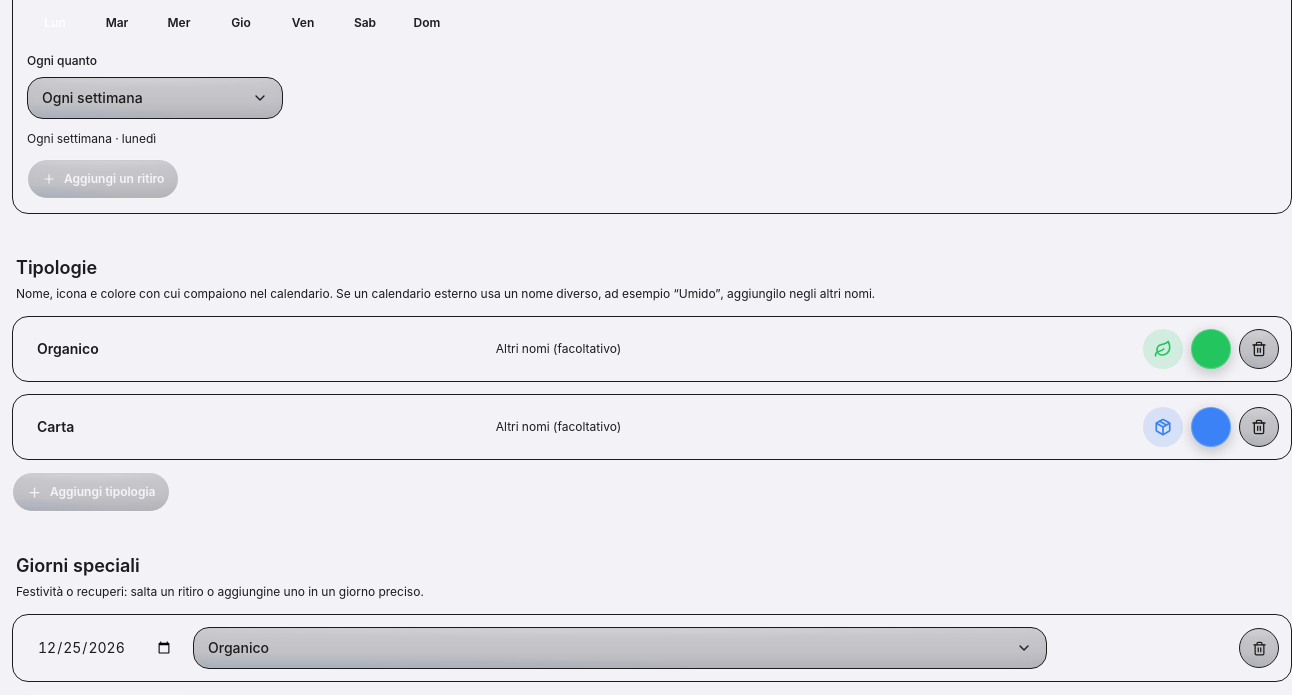
Test: WasteCollectionSettings › removes a waste type with its linked collections and can undo it
The width and height of the screenshot is (1292, 695).
(page scrolled)
Click the button named "Rimuovi Organico" at (1259, 349), box [1239, 329, 1279, 369]
(page scrolled)
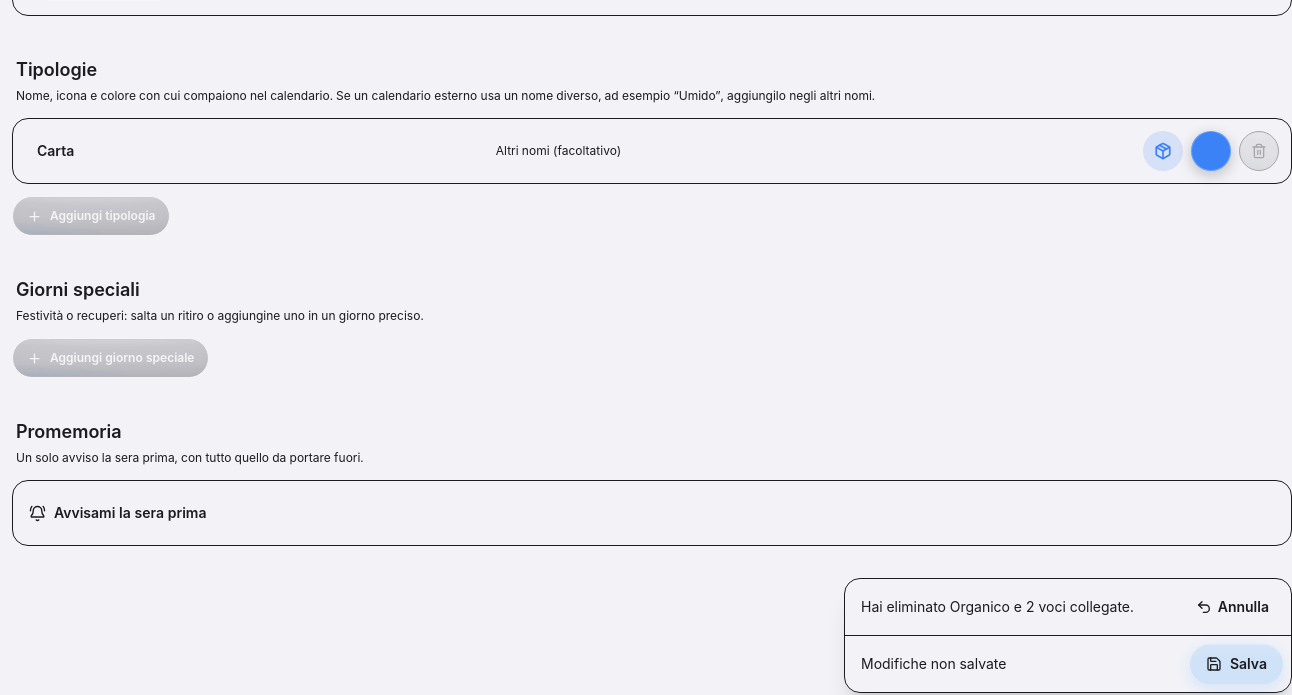
Check: the element "In quali giorni" is not shown
Check: the message shows "Hai eliminato Organico e 2 voci collegate.", box [861, 598, 1134, 615]
Click the button "Annulla" at (1232, 607), box [1182, 587, 1283, 627]
(page scrolled)
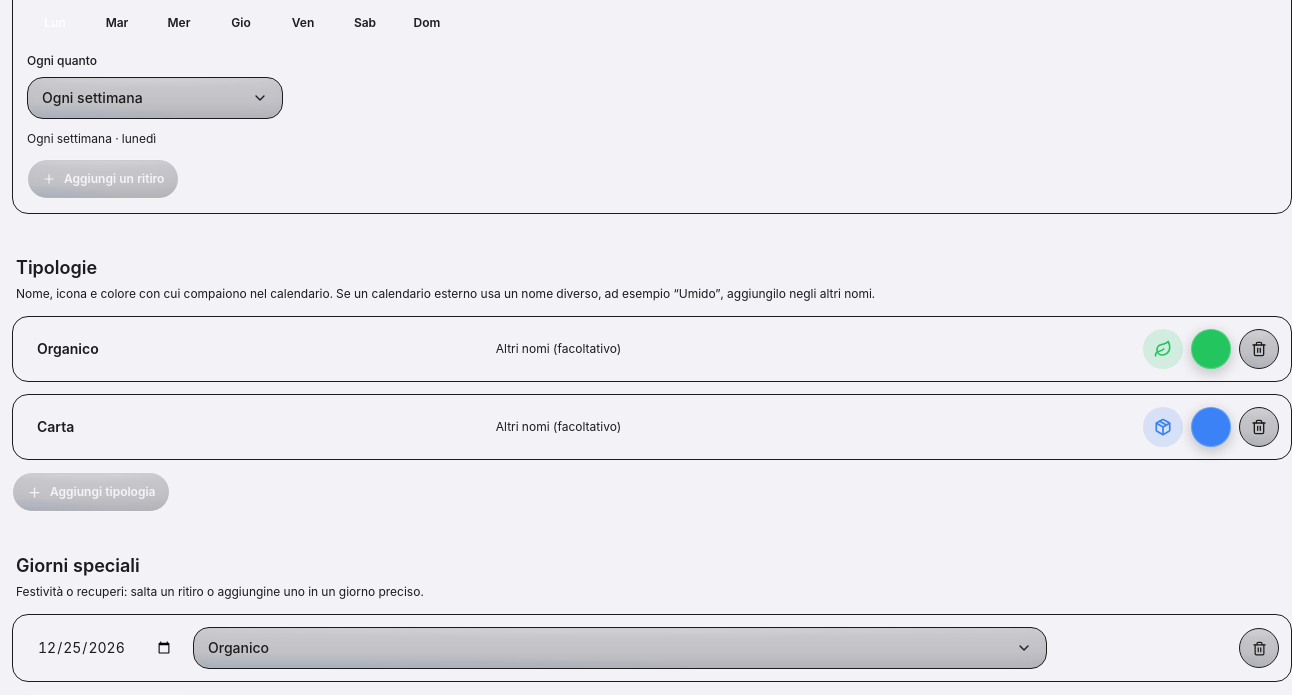
Check: the 1st colour field named "Colore di Organico" is shown, box [1191, 329, 1231, 369]
Check: the element named "In quali giorni" is shown, box [27, 5, 455, 41]
Check: the text "Modifiche non salvate" is gone
